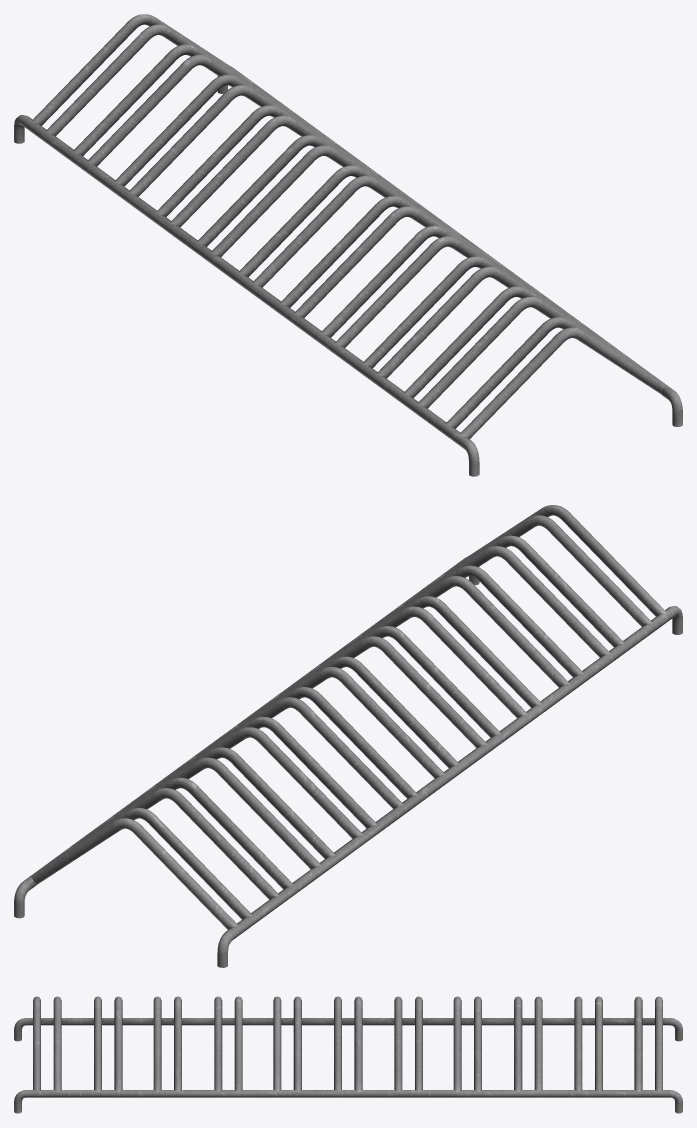
File: Bicicletero.FBX
3 views of the same model, one above another, from view 1: azimuth 30°, elevation 25°; view 2: azimuth 150°, elevation 25°; view 3: azimuth 270°, elevation 25° (orthographic). The views are drawn at different scales.
Parts seen in each view (by area): view 1: bicicletero; view 2: bicicletero; view 3: bicicletero.
Part boxes in pixels (<box>): bicicletero: <box>14,14,682,476</box>; bicicletero: <box>14,505,682,967</box>; bicicletero: <box>14,996,682,1113</box>.
Size of the model in its own units: 89.23 by 44.19 by 334.
1 material, 1 textured.
